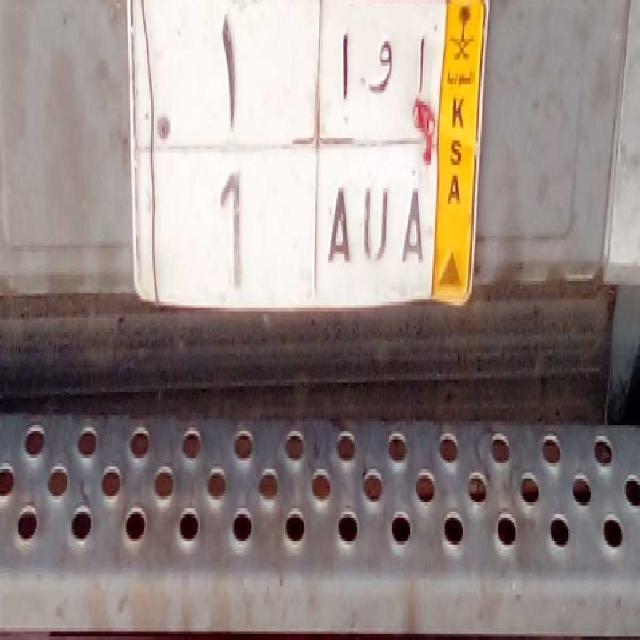license_plate: (153, 138, 435, 306)
